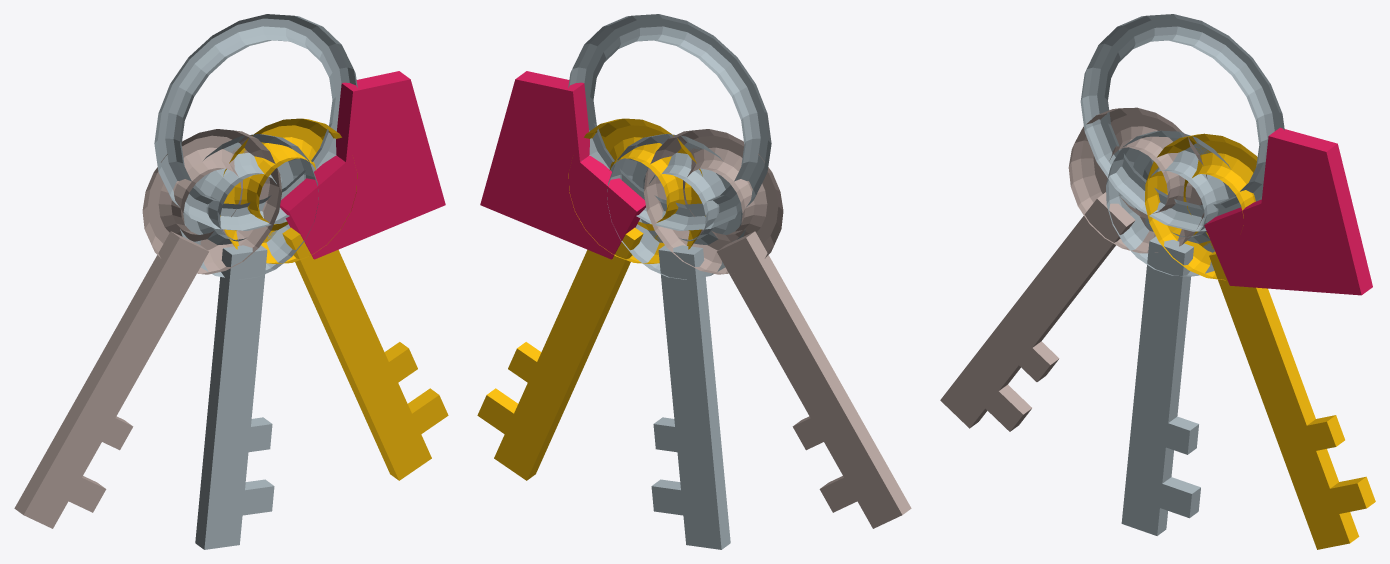
Rendered from nyckelknippa.glb.
3 views of the same model, side by side, from view 1: azimuth 30°, elevation 25°; view 2: azimuth 150°, elevation 25°; view 3: azimuth 330°, elevation 25° (orthographic).
Parts seen in each view (by area): view 1: nyckelknippa; view 2: nyckelknippa; view 3: nyckelknippa.
Boxes of the visible parts, x1,y1,x2,y2 form: nyckelknippa: [14, 14, 448, 549]; nyckelknippa: [477, 14, 911, 549]; nyckelknippa: [940, 14, 1375, 549].
Size of the model in its own units: 0.2149 by 0.2504 by 0.0171.
